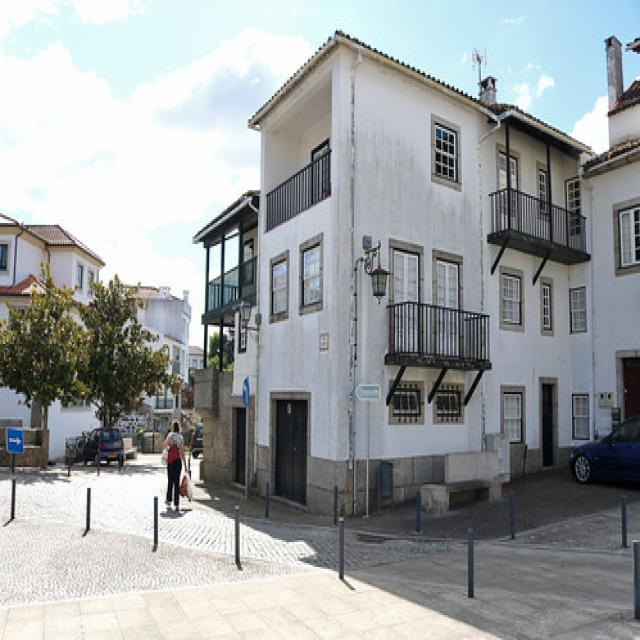Normal_building: (184, 32, 591, 526)
